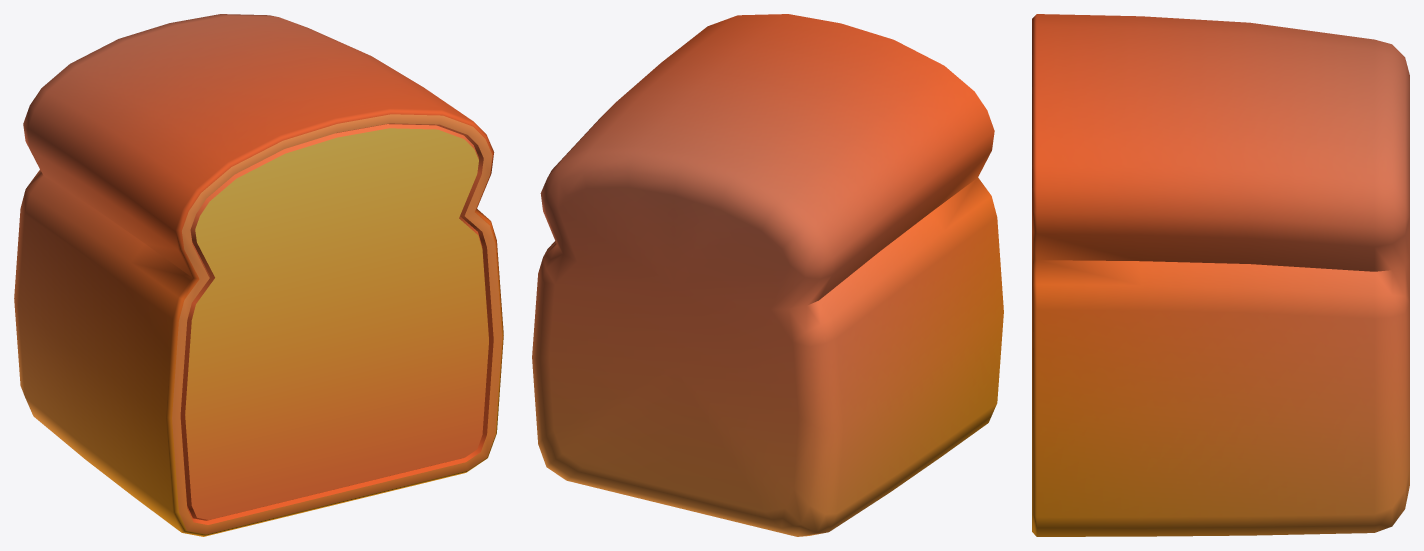
Rendered from loaf_002.fbx.
3 renders of one model, left to right at view 1: azimuth 30°, elevation 25°; view 2: azimuth 150°, elevation 25°; view 3: azimuth 270°, elevation 25°, orthographic. The views are drawn at different scales.
Visible parts, largest first — view 1: loaf_002; view 2: loaf_002; view 3: loaf_002.
Part boxes in pixels (x1,y1,x2,y2): loaf_002: [14, 14, 503, 536]; loaf_002: [532, 14, 1003, 536]; loaf_002: [1032, 14, 1409, 536].
Bounding box in the file's own units: 12.98 × 11.69 × 14.19.
